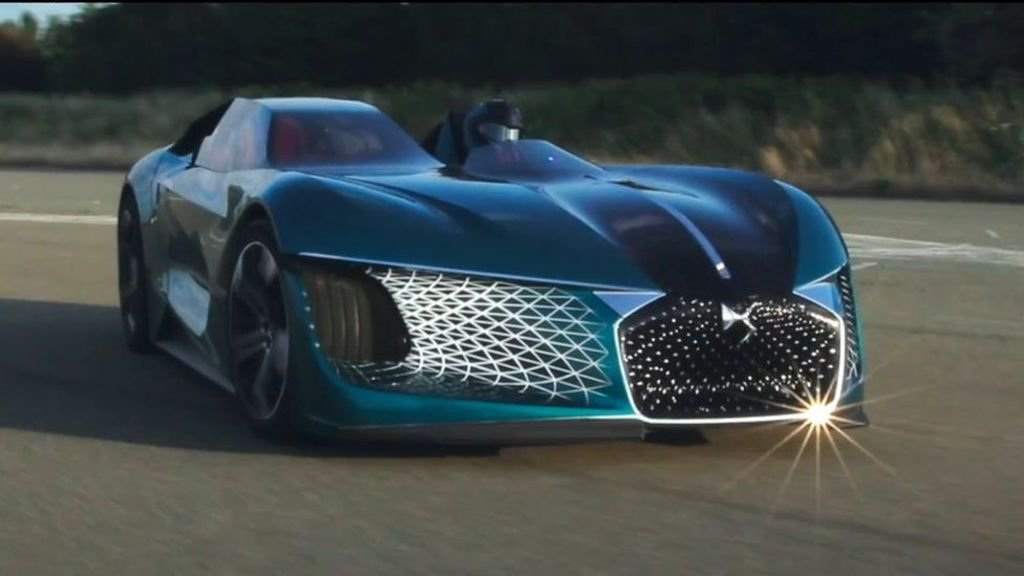car: (127, 89, 873, 453)
